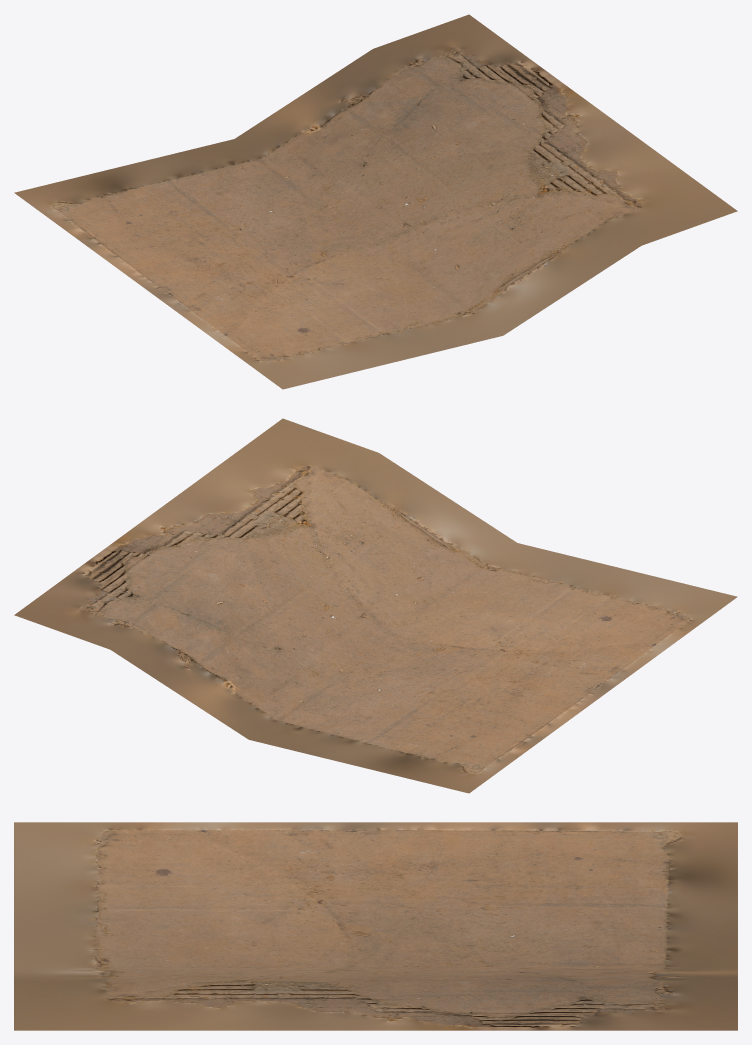
The model's file is sm_Cardboard_01_02.fbx.
The picture shows the model from 3 angles, top to bottom: view 1: azimuth 30°, elevation 25°; view 2: azimuth 150°, elevation 25°; view 3: azimuth 270°, elevation 25°; orthographic projection. The views are drawn at different scales.
Parts seen in each view (by area): view 1: sm_Cardboard_01_02_LOD0; view 2: sm_Cardboard_01_02_LOD0; view 3: sm_Cardboard_01_02_LOD0.
Part boxes in pixels (left/top/right/bottom): sm_Cardboard_01_02_LOD0: left=14, top=14, right=737, bottom=389; sm_Cardboard_01_02_LOD0: left=14, top=418, right=737, bottom=793; sm_Cardboard_01_02_LOD0: left=14, top=822, right=737, bottom=1030.
Size of the model in its own units: 61.85 by 63.27 by 8.74.
